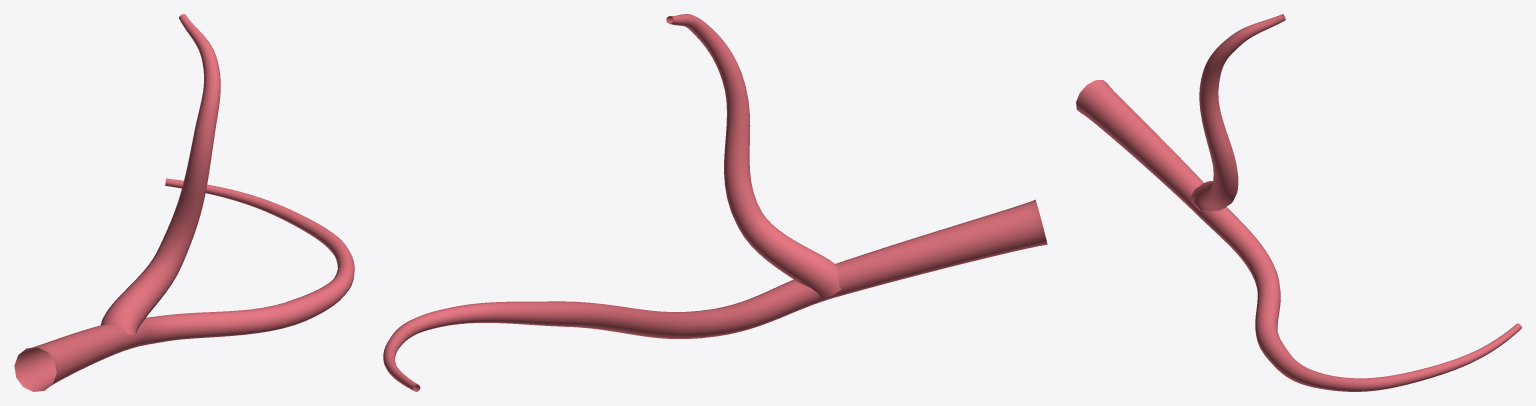
3 renders of one model, left to right at view 1: azimuth 30°, elevation 25°; view 2: azimuth 150°, elevation 25°; view 3: azimuth 270°, elevation 25°, orthographic. The views are drawn at different scales.
Parts seen in each view (by area): view 1: ZA_1a78dc406a21f525; view 2: ZA_1a78dc406a21f525; view 3: ZA_1a78dc406a21f525.
Part boxes in pixels (<box>): ZA_1a78dc406a21f525: <box>14,14,354,391</box>; ZA_1a78dc406a21f525: <box>383,14,1047,391</box>; ZA_1a78dc406a21f525: <box>1076,14,1521,391</box>.
Bounding box in the file's own units: 0.0712 × 0.0477 × 0.0649.
